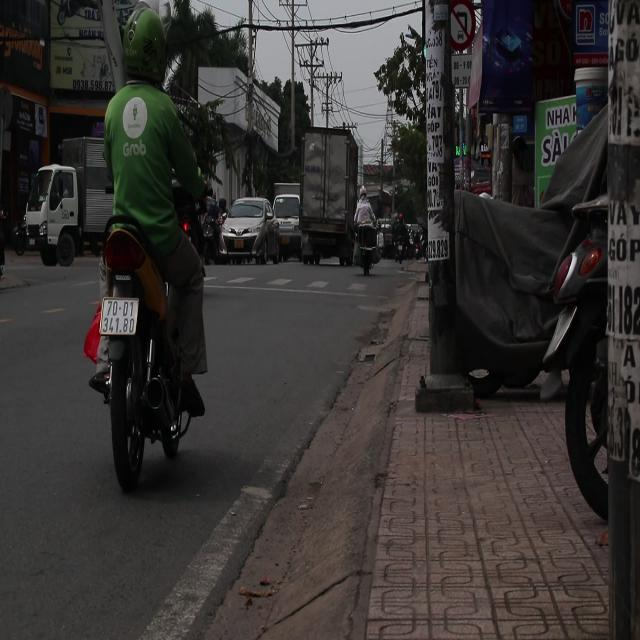car: (218, 198, 277, 264), (269, 194, 302, 261)
motorbike: (94, 171, 212, 481), (351, 194, 387, 293), (385, 210, 411, 264)
truck: (37, 140, 115, 262), (299, 127, 356, 264)
